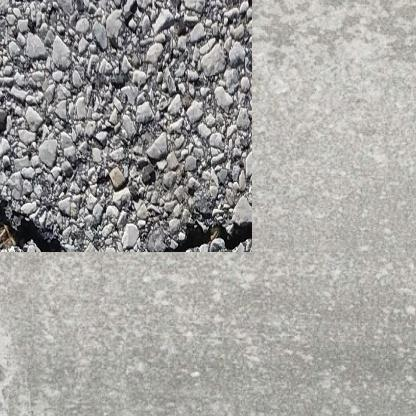Cracks: (0, 181, 61, 233), (148, 205, 233, 233)
